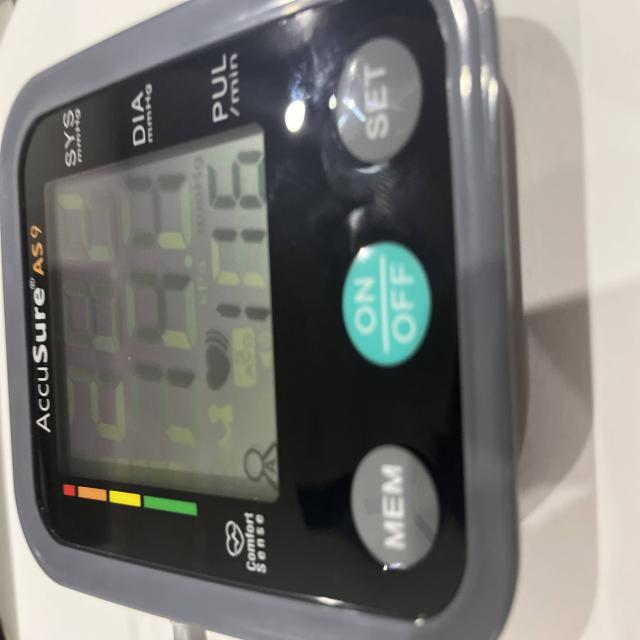bp: (0, 0, 527, 640)
